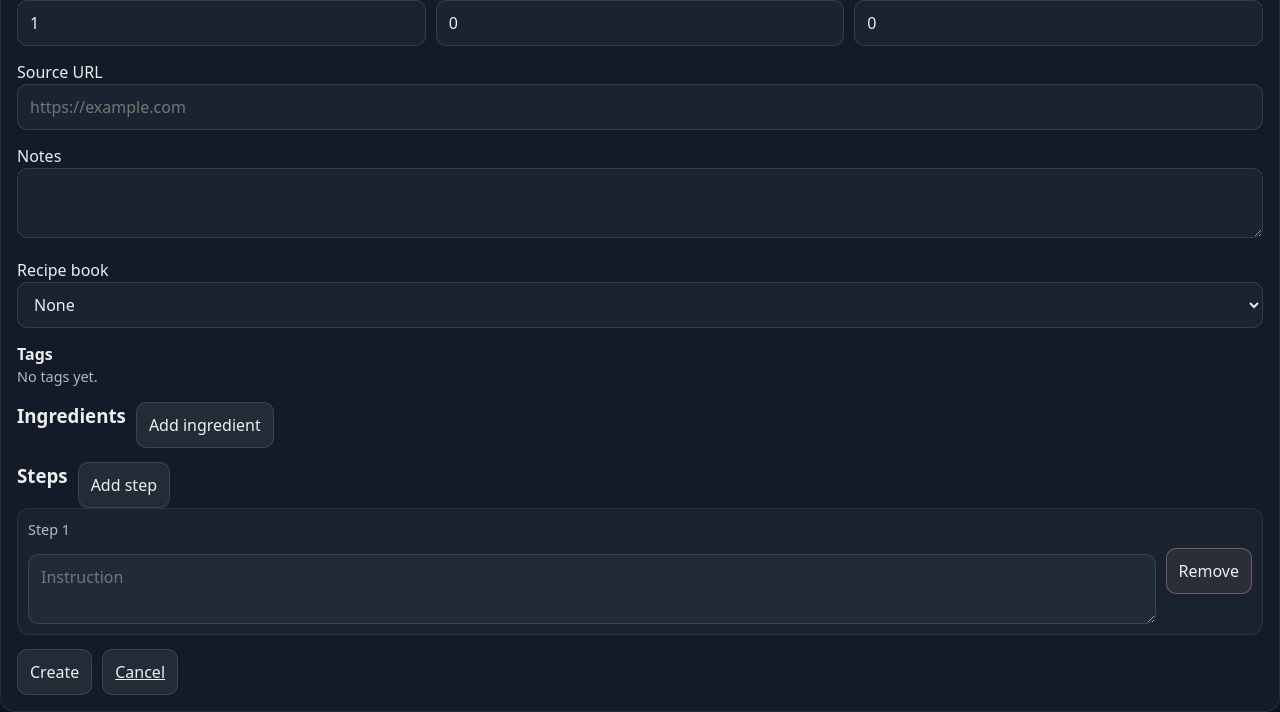
it: RecipeEditorPage › validates required fields
(page scrolled)
What coordinates should you click on to do the following:
click the button "Create"
I would click on:
 (55, 672)
Its box is [17,649,92,695].
(page scrolled)
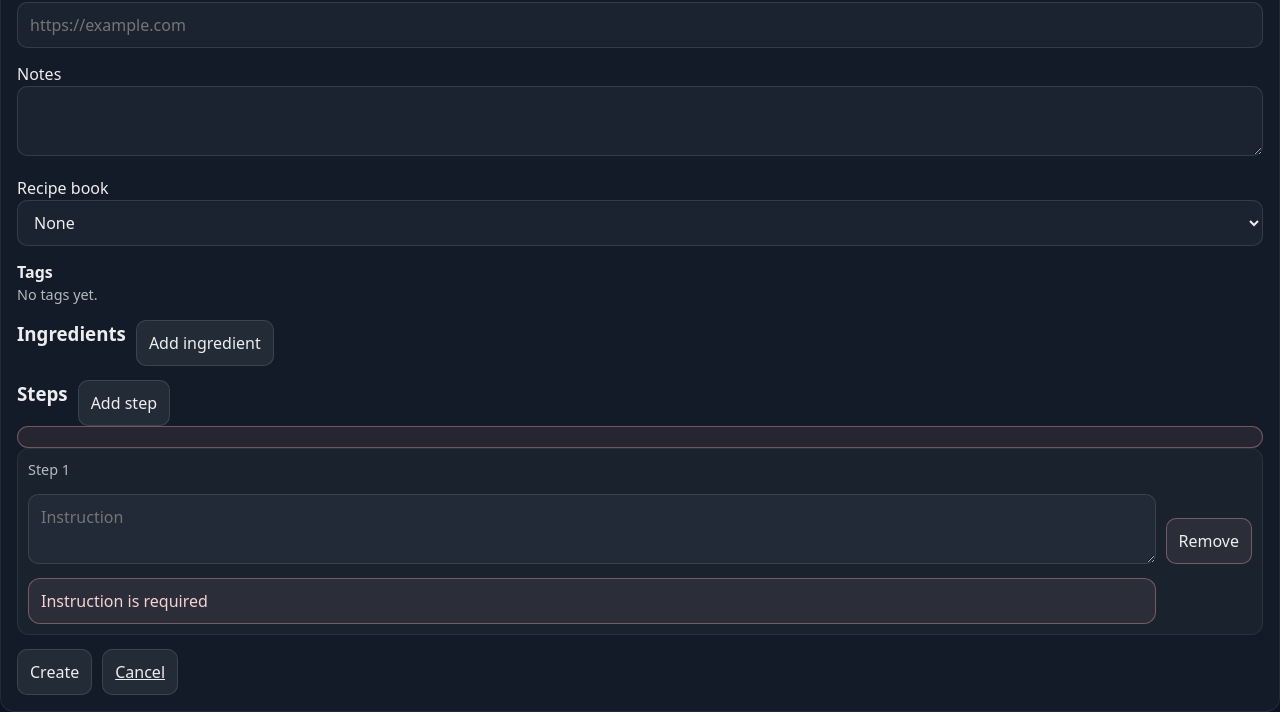
expect the text "Instruction is required" is shown: met, box [28,578,1156,624]
